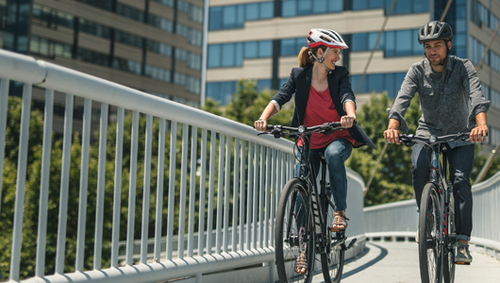bikerider: (378, 19, 495, 283), (254, 22, 369, 283)
